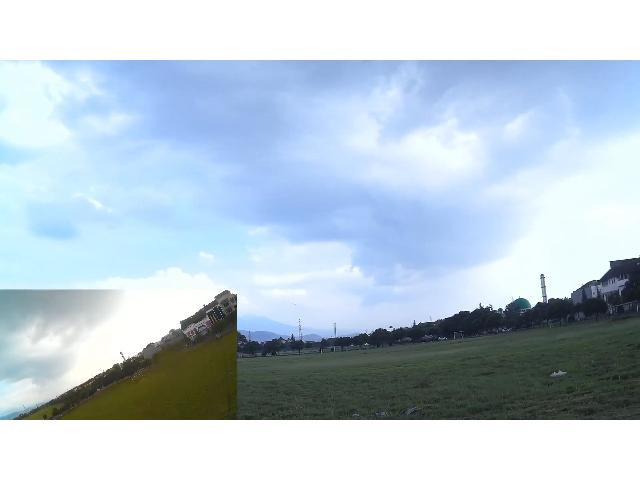Anti-Drone: (288, 301, 298, 307)
